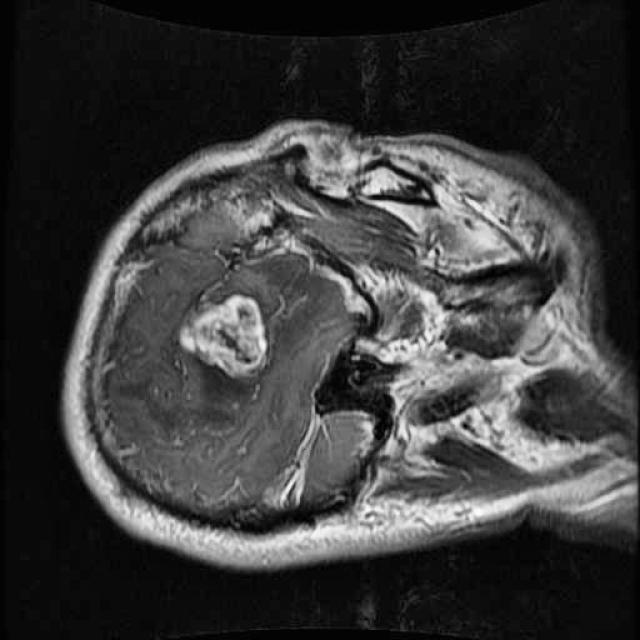Non-Tumor: (168, 274, 285, 392)
